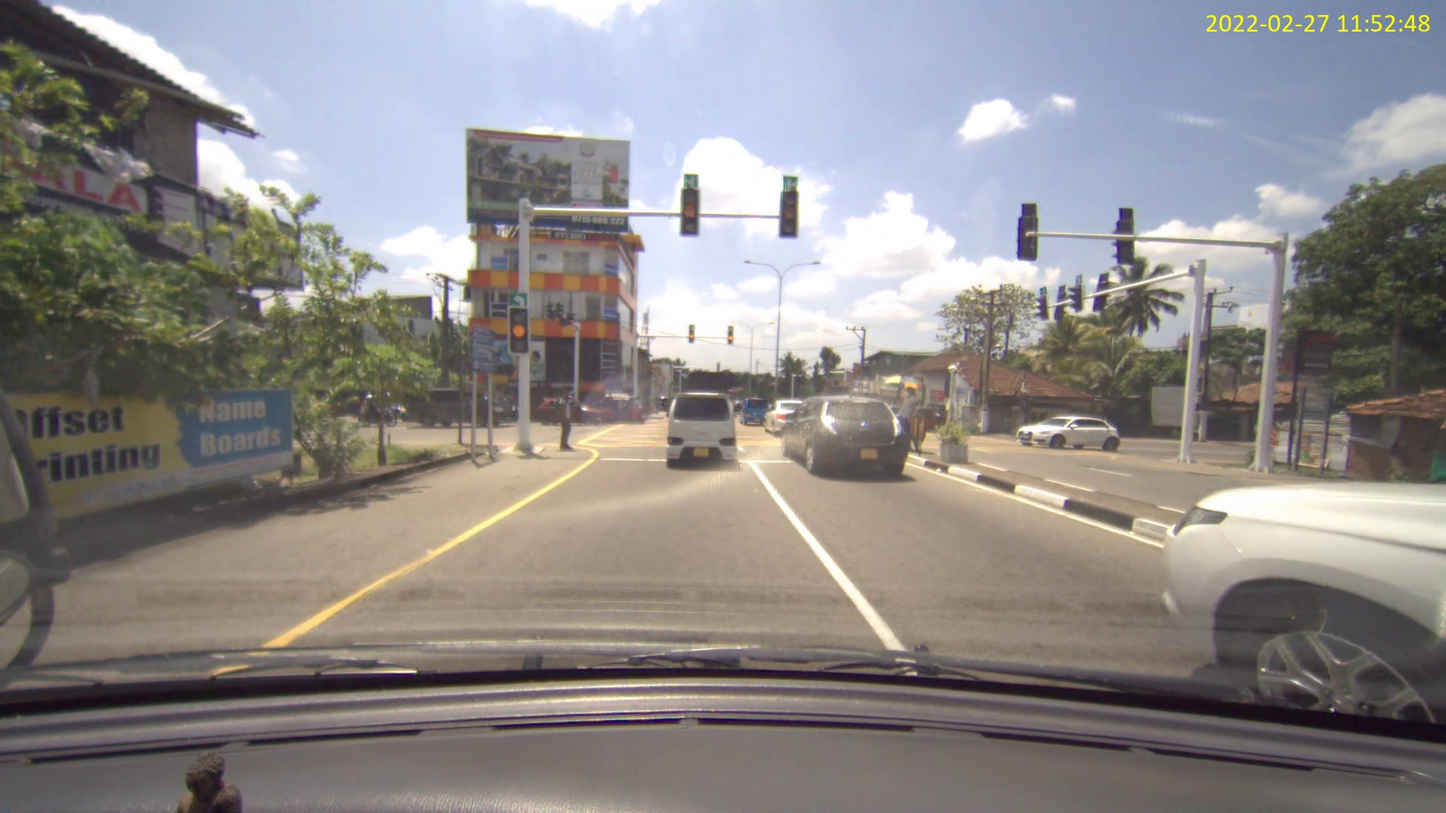Yellow: (506, 306, 530, 355), (778, 191, 799, 239), (679, 187, 699, 236)
